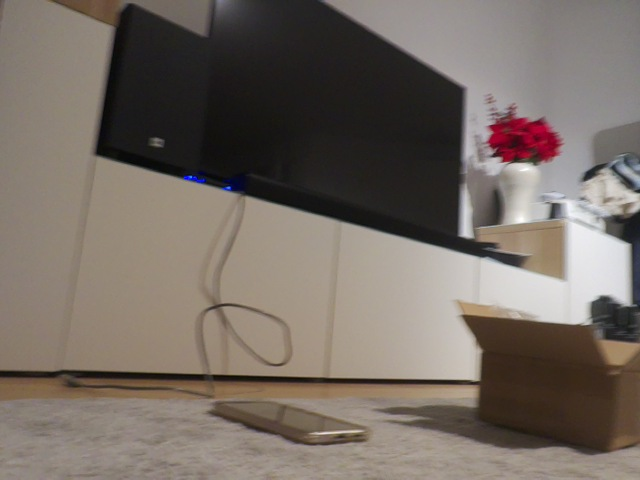box: (434, 296, 640, 458)
cable: (57, 192, 350, 480)
carpet: (0, 397, 639, 479)
flower: (466, 93, 569, 181)
furniture: (0, 0, 243, 372), (206, 198, 633, 391)
loudspeaker: (223, 168, 496, 260), (94, 4, 227, 178)
mobilephone: (211, 385, 371, 460)
vase: (499, 161, 540, 222)
